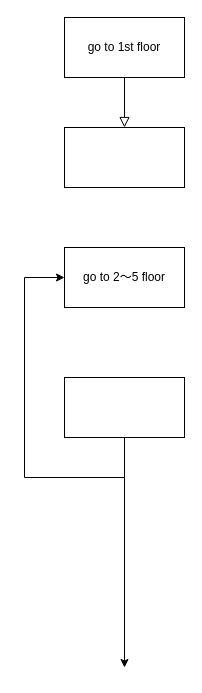
Image size: 202x693. Some labels were removed from this diagram. Here are the shapes that lost their labels. From the top down, the centre of each, then its label:
At point 124,157: "set encoder to 0".
At point 124,407: "find encoder value".
